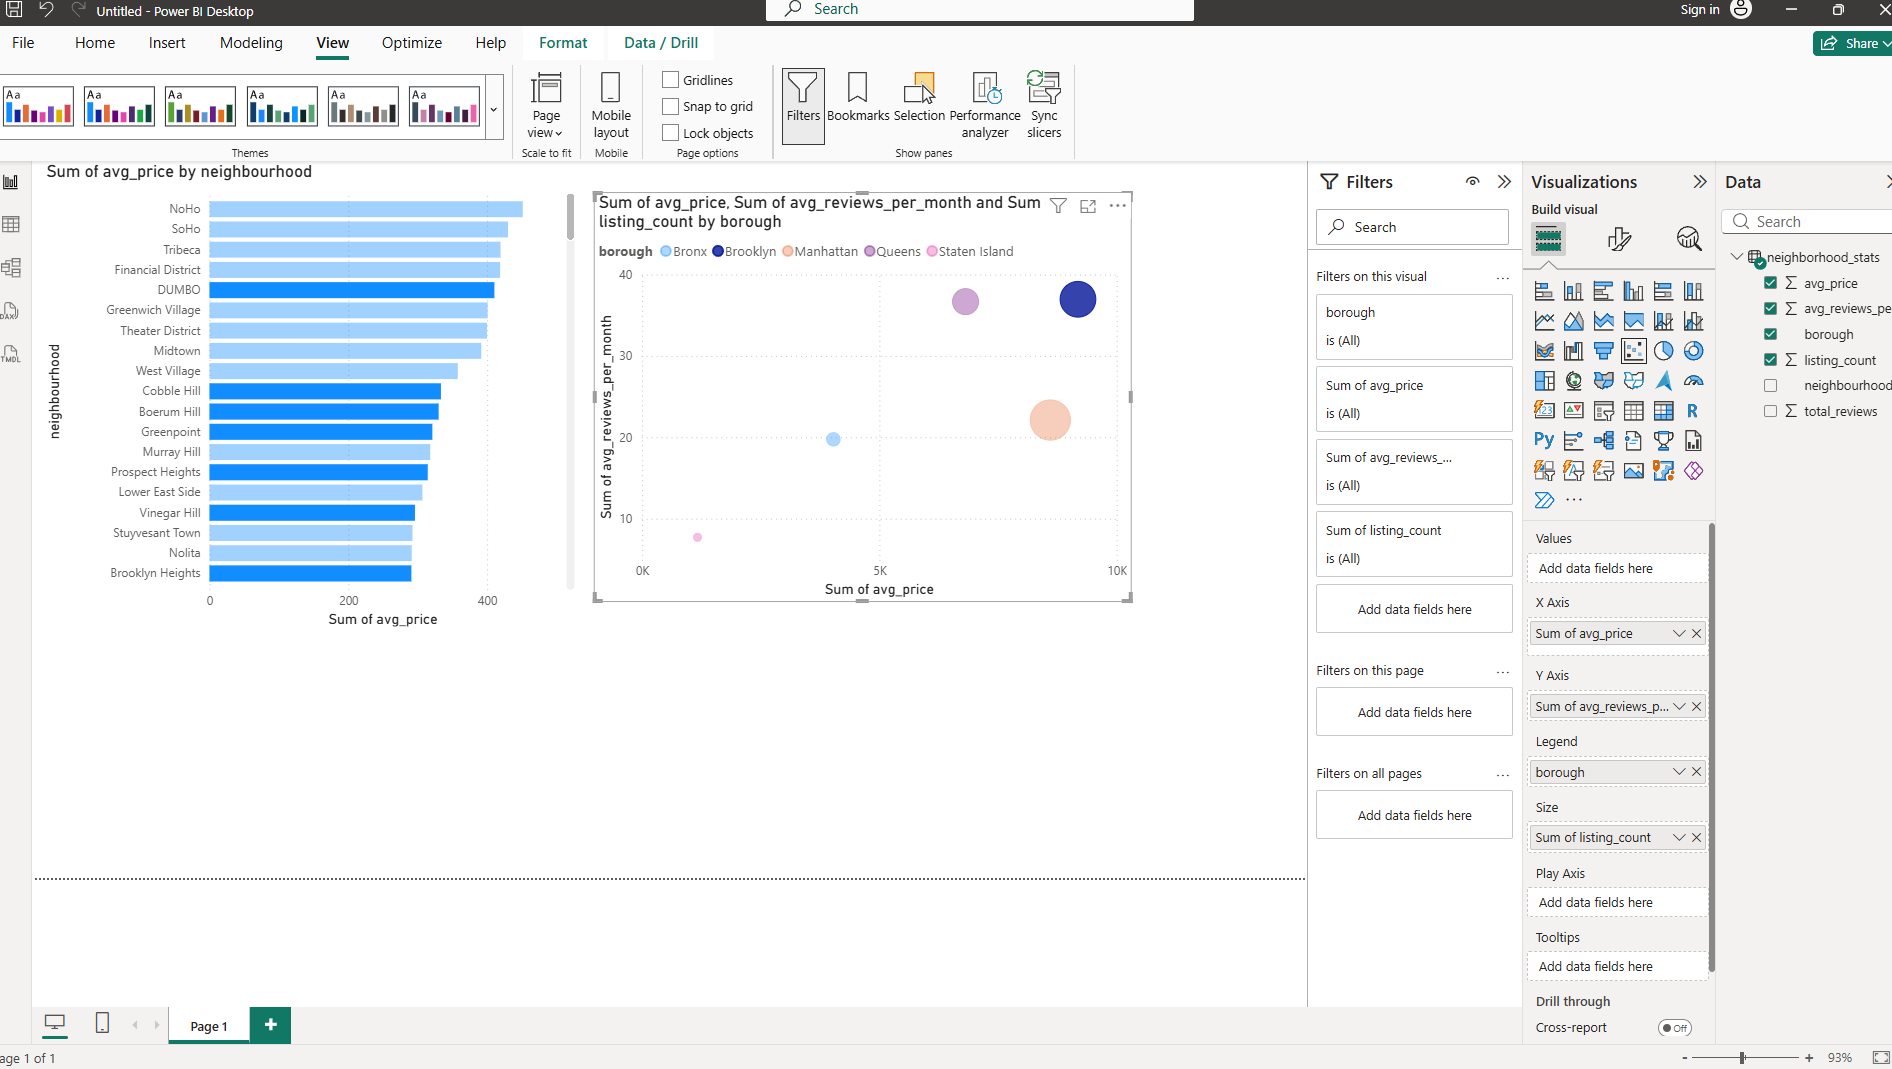

Layout of this report page (visuals, bound fields, positions):
{"tool":"powerbi","page":{"name":"Page 1","canvas":[1280,720],"ordinal":0},"visuals":[{"type":"clusteredBarChart","fields":{"Y":["Sum(neighborhood_stats.avg_price)"],"Category":["neighborhood_stats.neighbourhood"]},"box":[9.7,0,603.7,719.7],"z":0},{"type":"scatterChart","fields":{"Y":["Avg(neighborhood_stats.avg_reviews_per_month)"],"X":["Avg(neighborhood_stats.avg_price)"],"Size":["Sum(neighborhood_stats.listing_count)"],"Series":["neighborhood_stats.borough"]},"box":[658.5,0,605.8,719.7],"z":1000}]}

Visuals, with their boxes on the page's 1280x720 design canvas (x1, y1, x2, y2). These are canvas units, not pixel positions in the 1892x1069 screenshot, which may show the page scaled, cropped or inside an application window:
clusteredBarChart - Sum(neighborhood_stats.avg_price) x neighborhood_stats.neighbourhood: [10, 0, 613, 720]
scatterChart - Avg(neighborhood_stats.avg_reviews_per_month) x Avg(neighborhood_stats.avg_price): [658, 0, 1264, 720]
